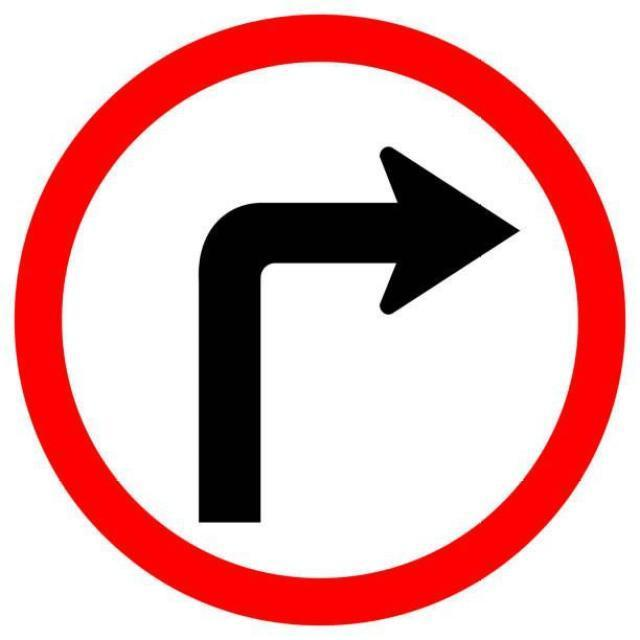right hand curve: (19, 15, 621, 623)
